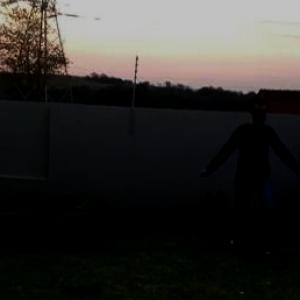land: (204, 113, 299, 253)
